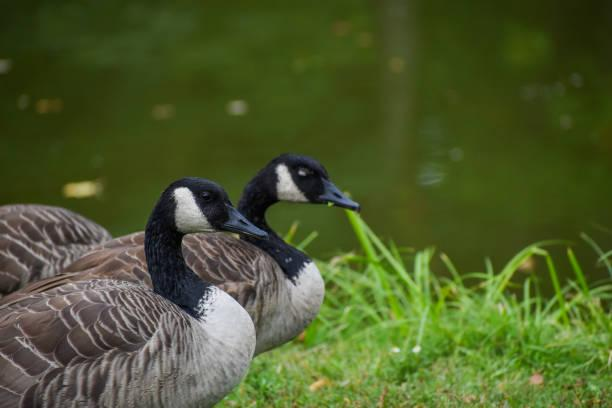Canadian-Goose: (0, 176, 274, 402), (58, 142, 356, 328)
